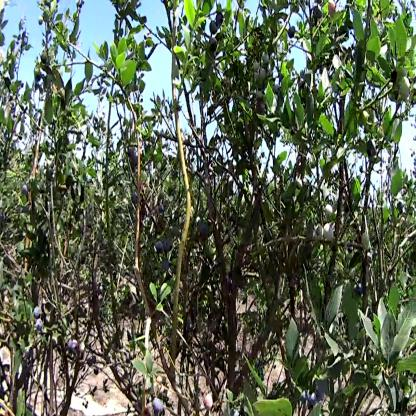intermediate: (202, 391, 216, 416)
mature: (147, 393, 167, 416), (198, 220, 214, 243), (35, 306, 45, 335), (286, 26, 299, 44)
young: (398, 76, 413, 105), (316, 226, 336, 246), (326, 200, 335, 225)
